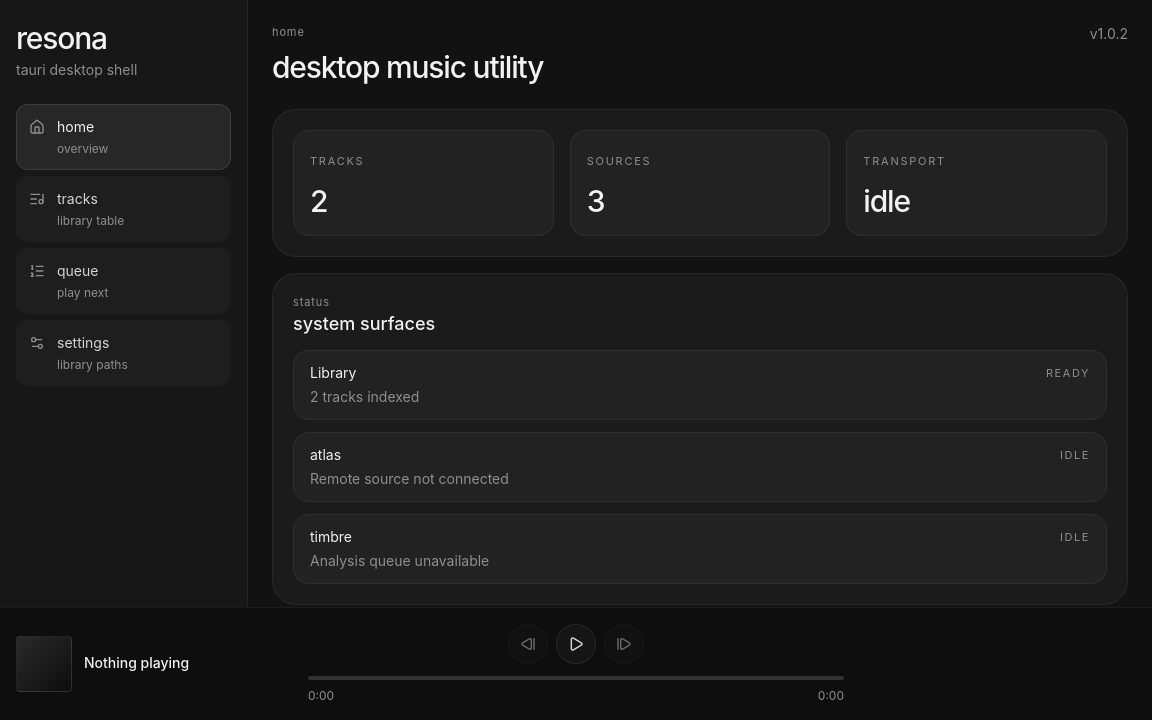
Test case: app shell smoke checks › navigates from home to settings without losing the shell
Expected: the heading "desktop music utility" is shown, left=272, top=48, right=543, bottom=84
Click the link "settings library paths".
click(124, 353)  # box left=16, top=320, right=231, bottom=386
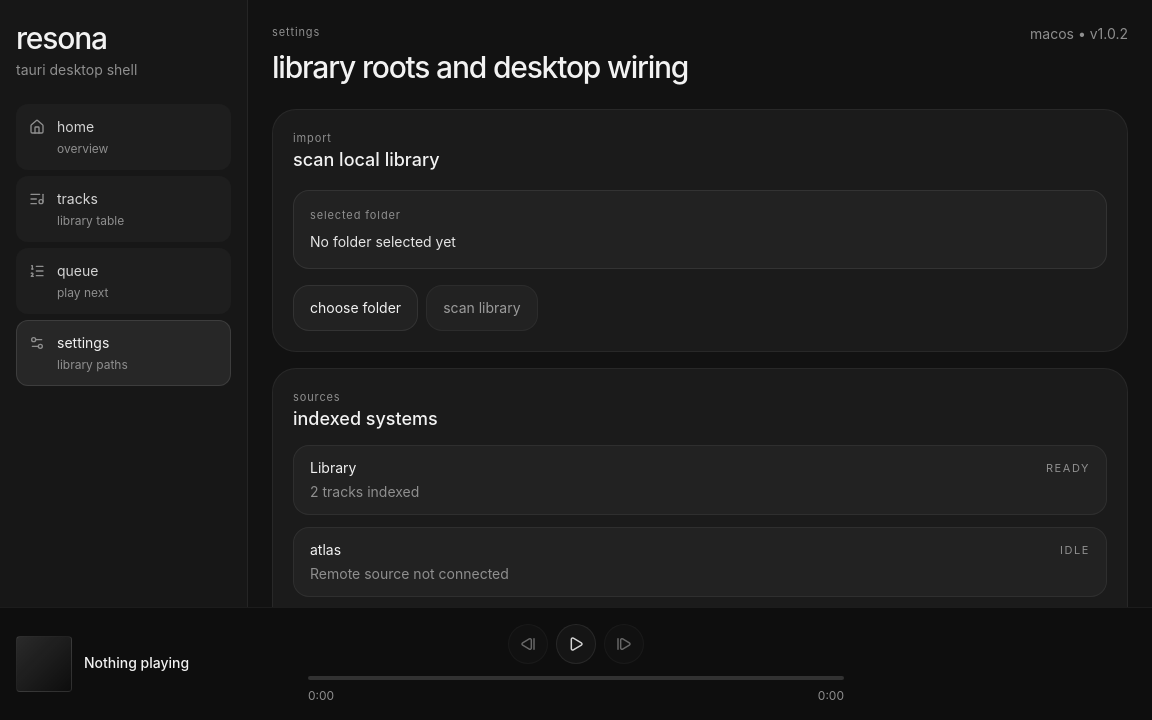
Expected: the text "Nothing playing" is shown, left=84, top=654, right=189, bottom=671
Expected: the heading "library roots and desktop wiring" is shown, left=272, top=48, right=688, bottom=84
Expected: the button "scan library" is shown, left=426, top=284, right=538, bottom=330
